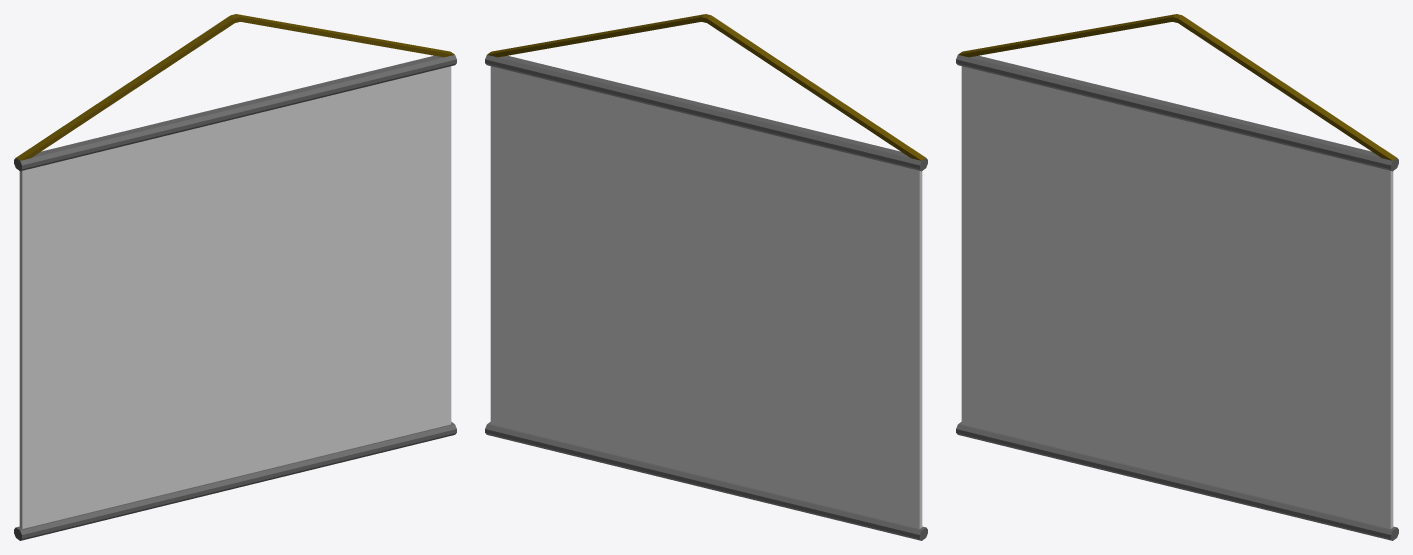
File: platno.fbx
3 renders of one model, left to right at view 1: azimuth 30°, elevation 25°; view 2: azimuth 150°, elevation 25°; view 3: azimuth 330°, elevation 25°, orthographic.
Parts seen in each view (by area): view 1: Platno; view 2: Platno; view 3: Platno.
Boxes of the visible parts, x1,y1,x2,y2 form: Platno: [14, 14, 456, 540]; Platno: [485, 14, 927, 540]; Platno: [956, 14, 1398, 540].
Bounding box in the file's own units: 63.37 × 65.44 × 2.
